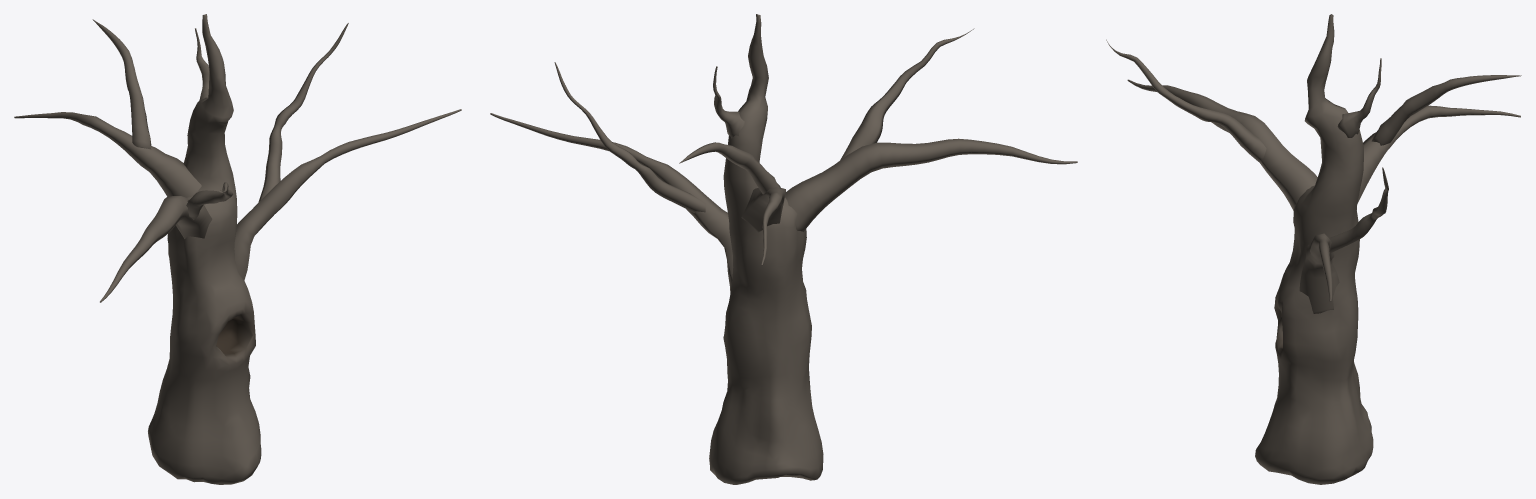
File: thickTree.obj
3 renders of one model, left to right at view 1: azimuth 30°, elevation 25°; view 2: azimuth 150°, elevation 25°; view 3: azimuth 270°, elevation 25°, orthographic. The views are drawn at different scales.
Parts seen in each view (by area): view 1: Tube_4; view 2: Tube_4; view 3: Tube_4.
Part boxes in pixels (x1,y1,x2,y2): Tube_4: (14,14,461,484); Tube_4: (490,14,1077,484); Tube_4: (1106,14,1521,484).
Bounding box in the file's own units: 3.99 × 3.69 × 3.07.
Materials: 1 (1 with a texture image).
